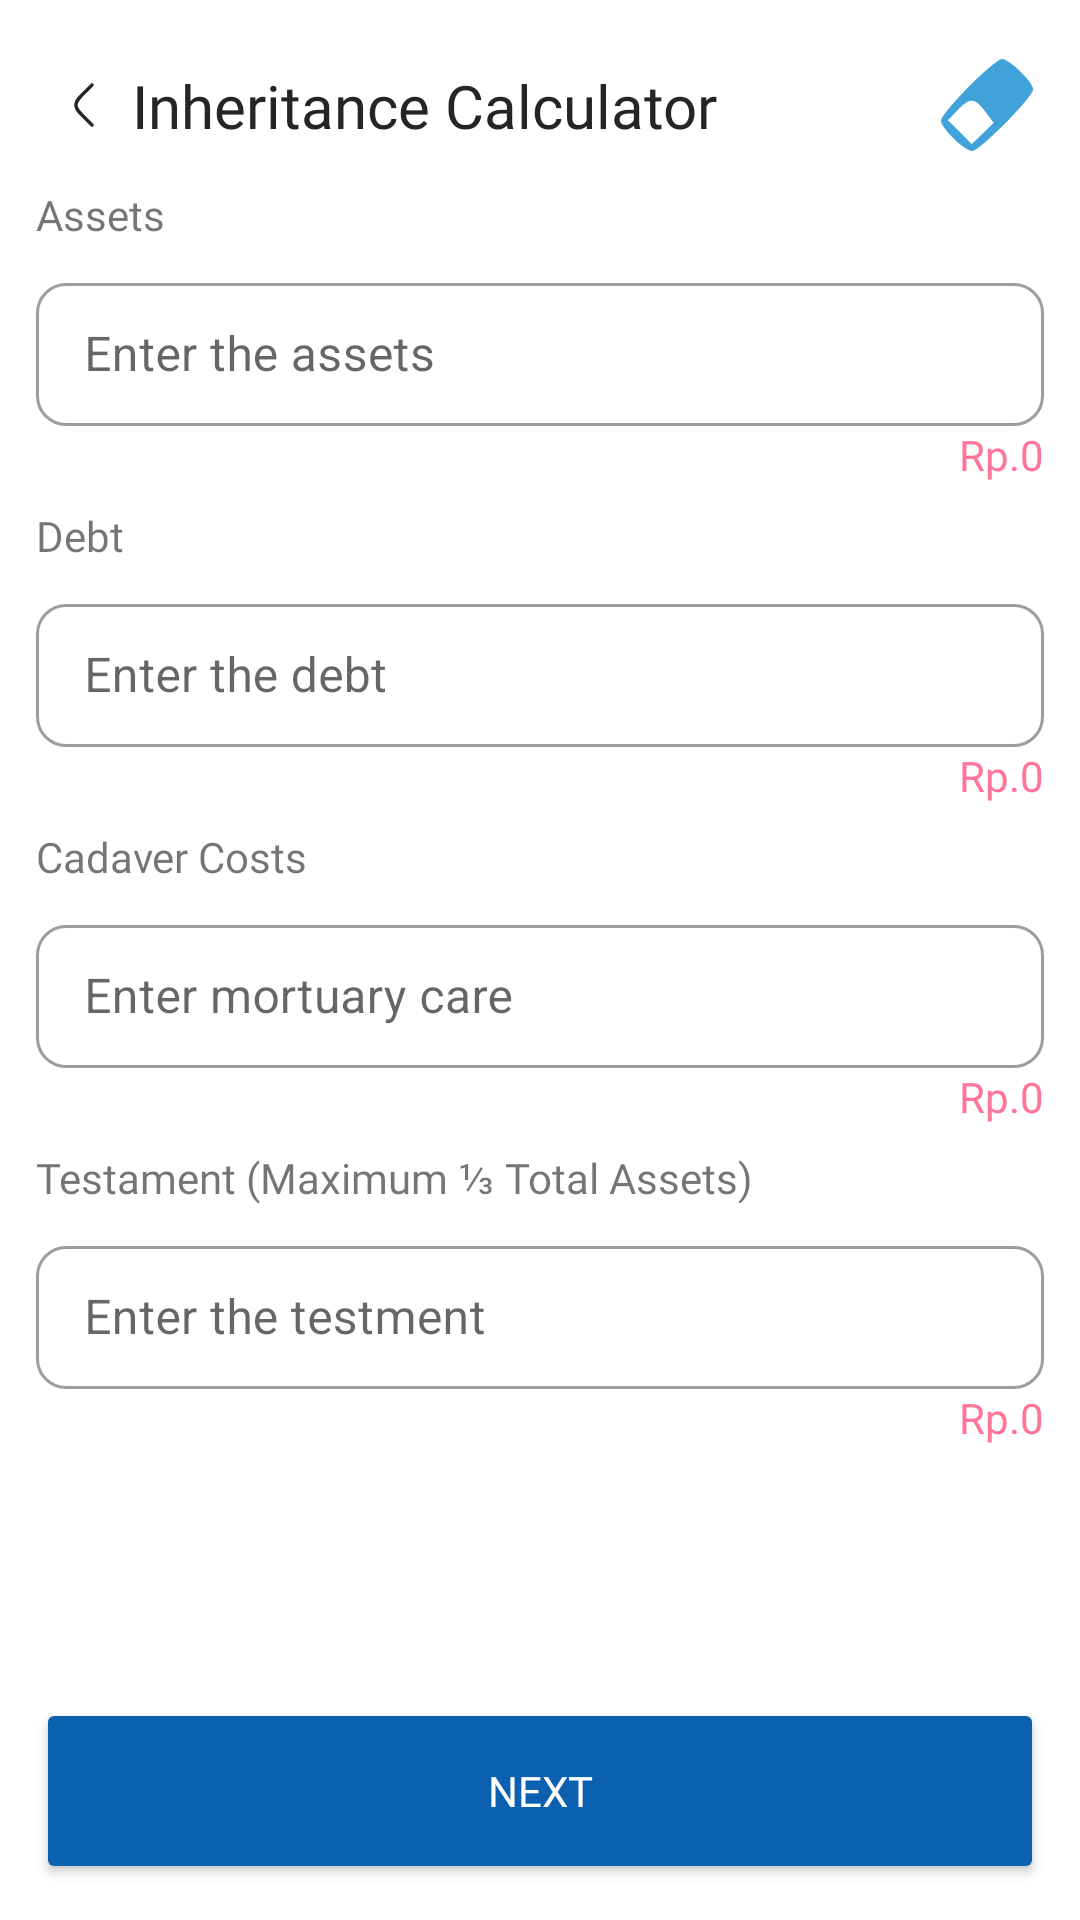

Named icons in this screenshot (1080px×1920px) and their bounding boxes, bbox(x1, y1, x2, y2):
eraser: bbox(941, 59, 1033, 151)
left: bbox(74, 83, 94, 127)
